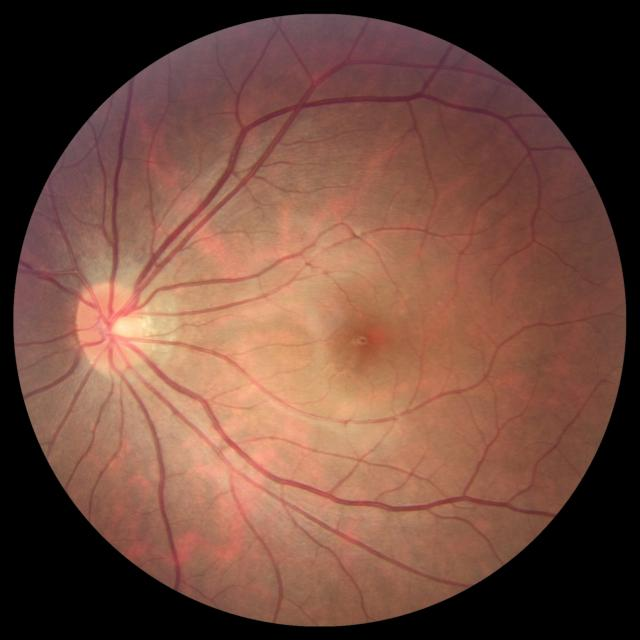OC: (105, 310, 133, 343)
OD: (76, 281, 149, 373)
